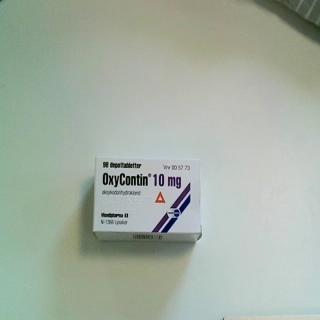oxycontin10mg: (92, 154, 204, 245)
